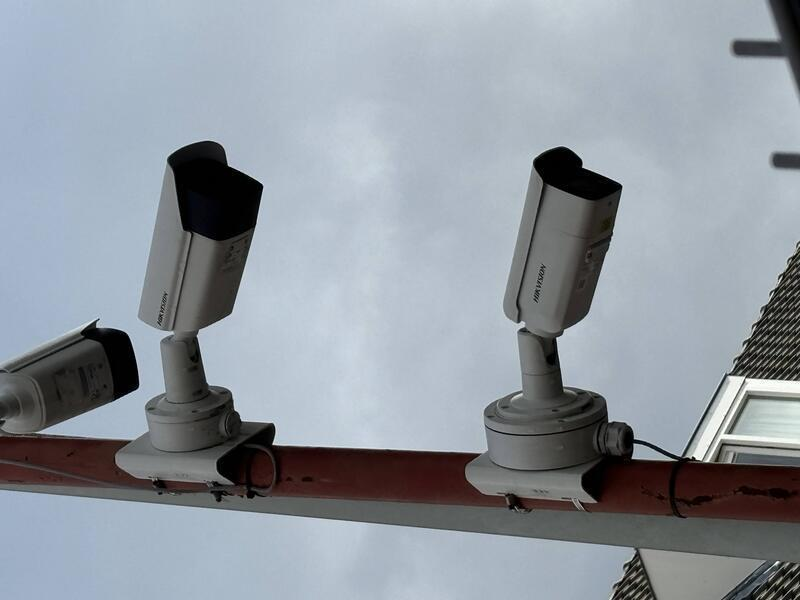bullet: (270, 134, 465, 265), (244, 496, 463, 600), (163, 2, 284, 141)
